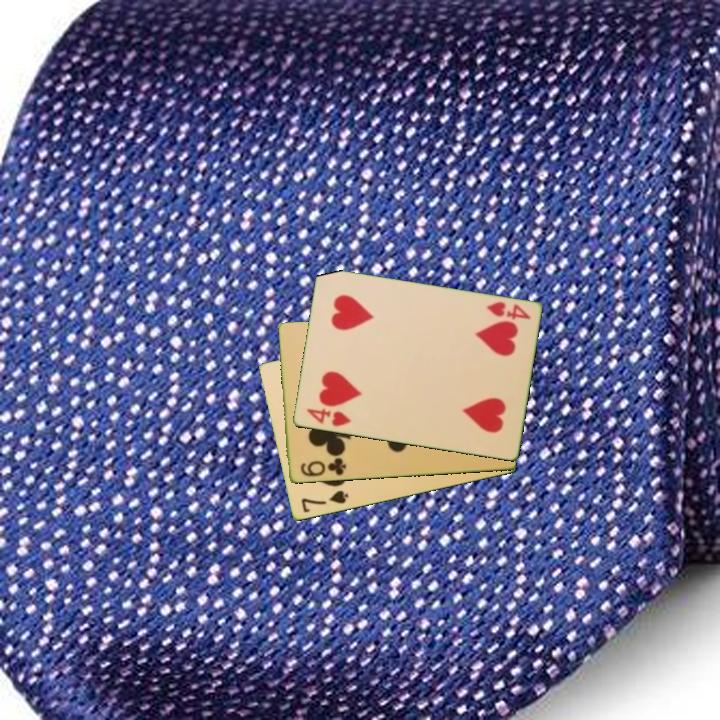4h: (482, 298, 533, 323), (303, 405, 353, 430)
6c: (296, 454, 349, 480)
7s: (297, 487, 351, 516)
